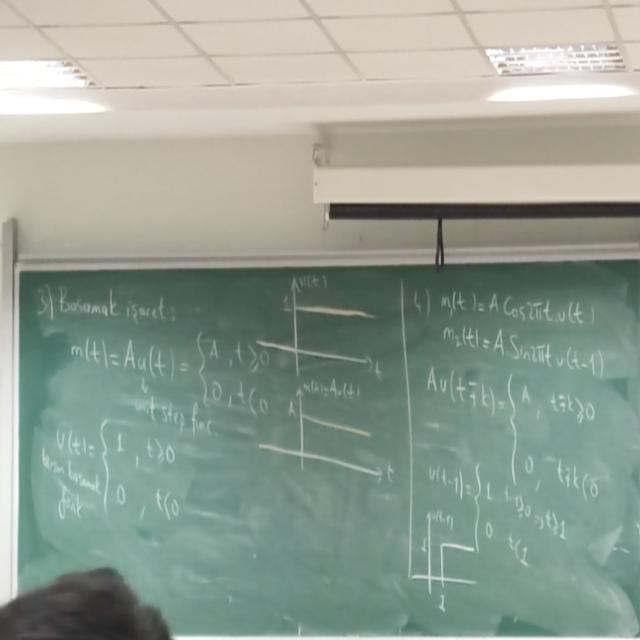image: (253, 267, 391, 392), (257, 377, 397, 490), (403, 499, 488, 615)
math: (428, 364, 608, 497), (429, 282, 621, 390), (41, 412, 191, 534), (61, 336, 270, 416), (495, 489, 577, 567)
text: (52, 274, 172, 328)
